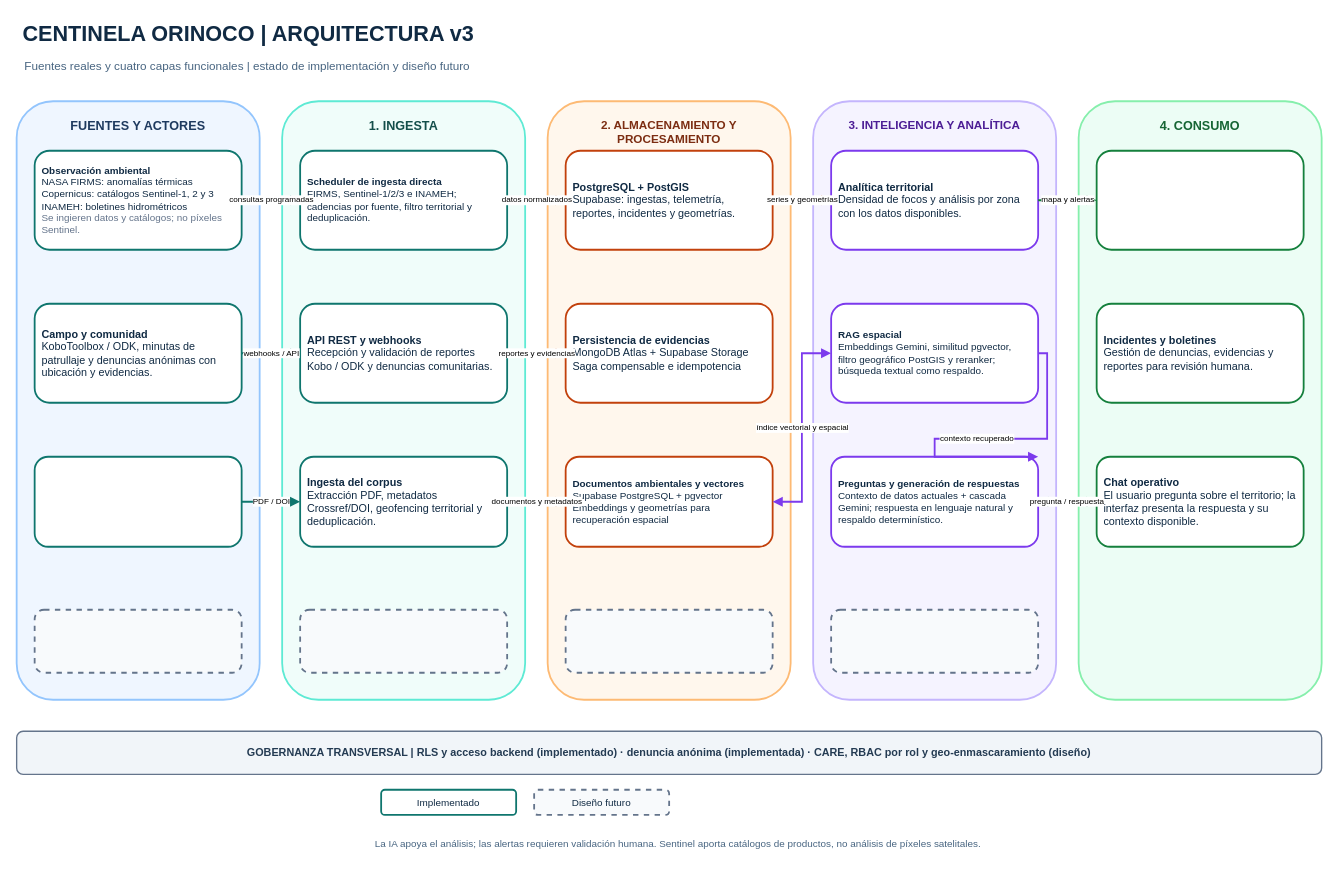
Some shapes in this 1341 by 872 pixel diagram are drawn without their labels. The centre of each missing label's shape, as x and y in pixels:
"Conocimiento científico Artículos, informes y normativa en PDF, texto o DOI." goes at (137,501).
"Evolución de la ingesta Nodo edge, SQLite / MQTT y Apache Kafka Diseño futuro" goes at (403,640).
"Histórico analítico Delta Lake / MinIO + Spark Diseño futuro" goes at (668,640).
"Reglas automatizadas DAG de detección y Airflow Diseño futuro" goes at (934,640).
"Sensores de campo LoRaWAN y captura local Diseño futuro" goes at (137,640).
"SPA React + Leaflet Mapa táctico, capas territoriales, telemetría y alertas." goes at (1199,199).
